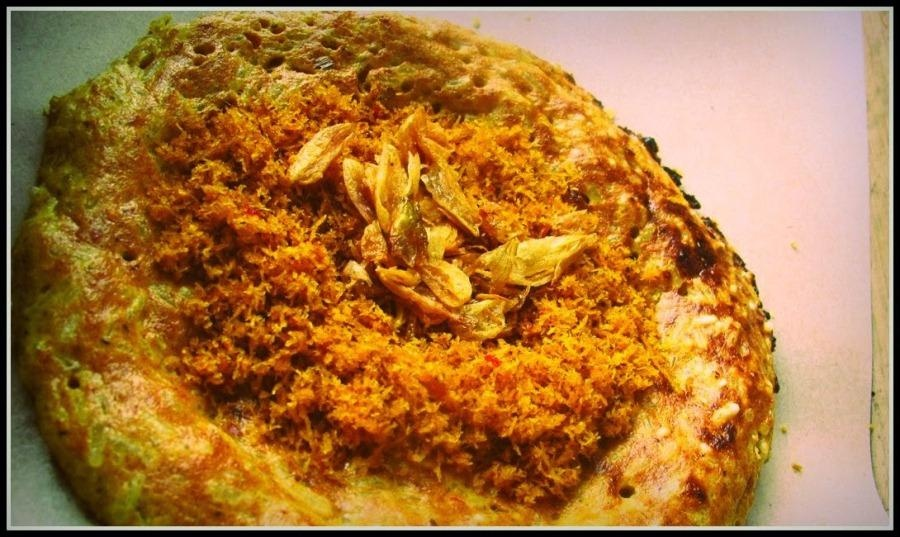kerak_telor: (23, 17, 783, 525)
